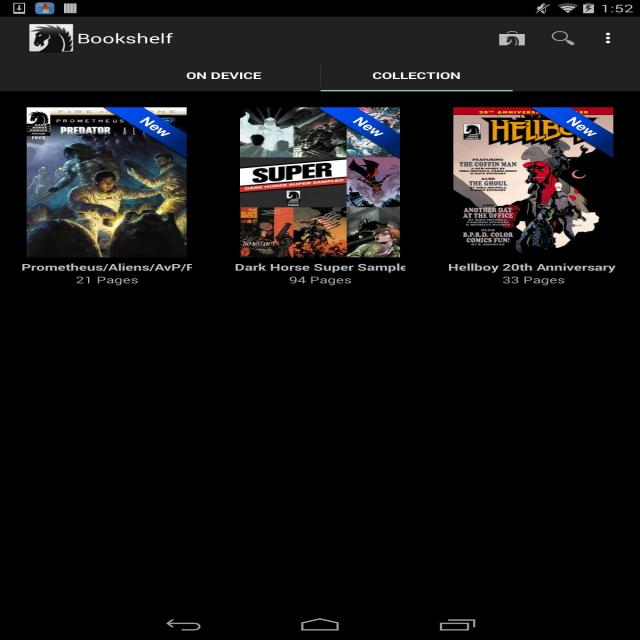button: (445, 102, 625, 294), (229, 104, 412, 292), (16, 105, 197, 288), (317, 60, 516, 91), (175, 62, 317, 92), (539, 27, 581, 52), (490, 27, 530, 51), (593, 26, 622, 50)
heading: (76, 28, 176, 48)
image: (237, 107, 402, 259), (451, 105, 616, 257), (24, 107, 188, 257), (31, 22, 75, 54)
text: (232, 262, 406, 288), (449, 263, 617, 287), (22, 262, 194, 285)
